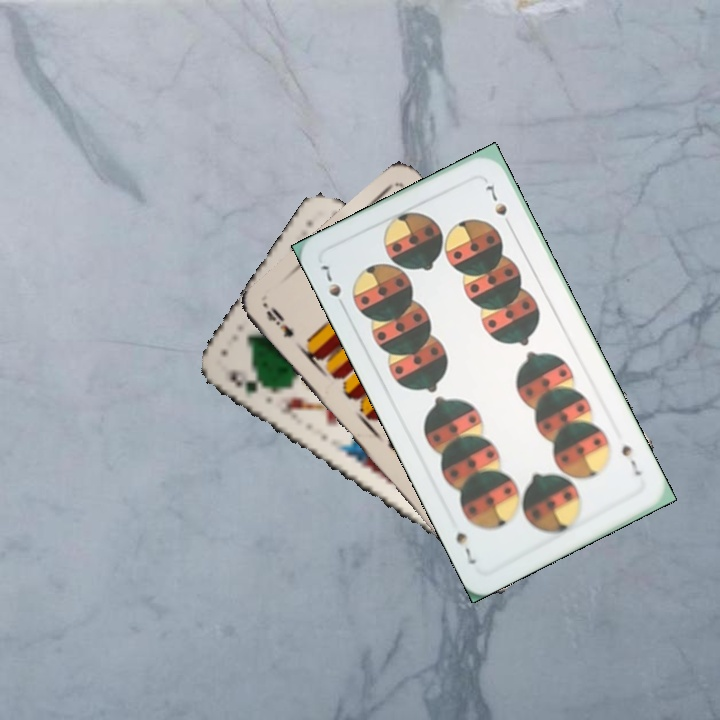E9: (262, 302, 297, 341)
GK: (224, 365, 275, 397)
S7: (315, 260, 349, 313), (617, 441, 643, 478)
